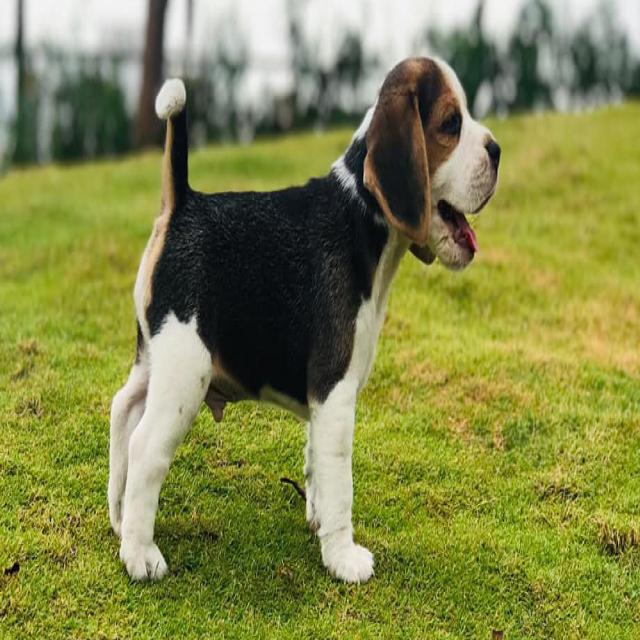Dog: (105, 47, 508, 589)
